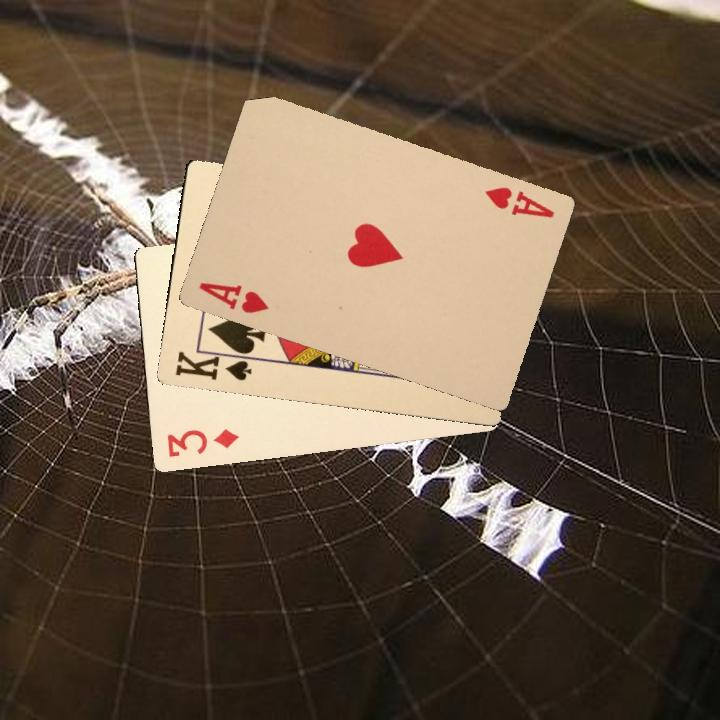3d: (163, 425, 241, 460)
Ah: (480, 182, 557, 221), (194, 278, 271, 316)
Ks: (171, 344, 253, 383)
